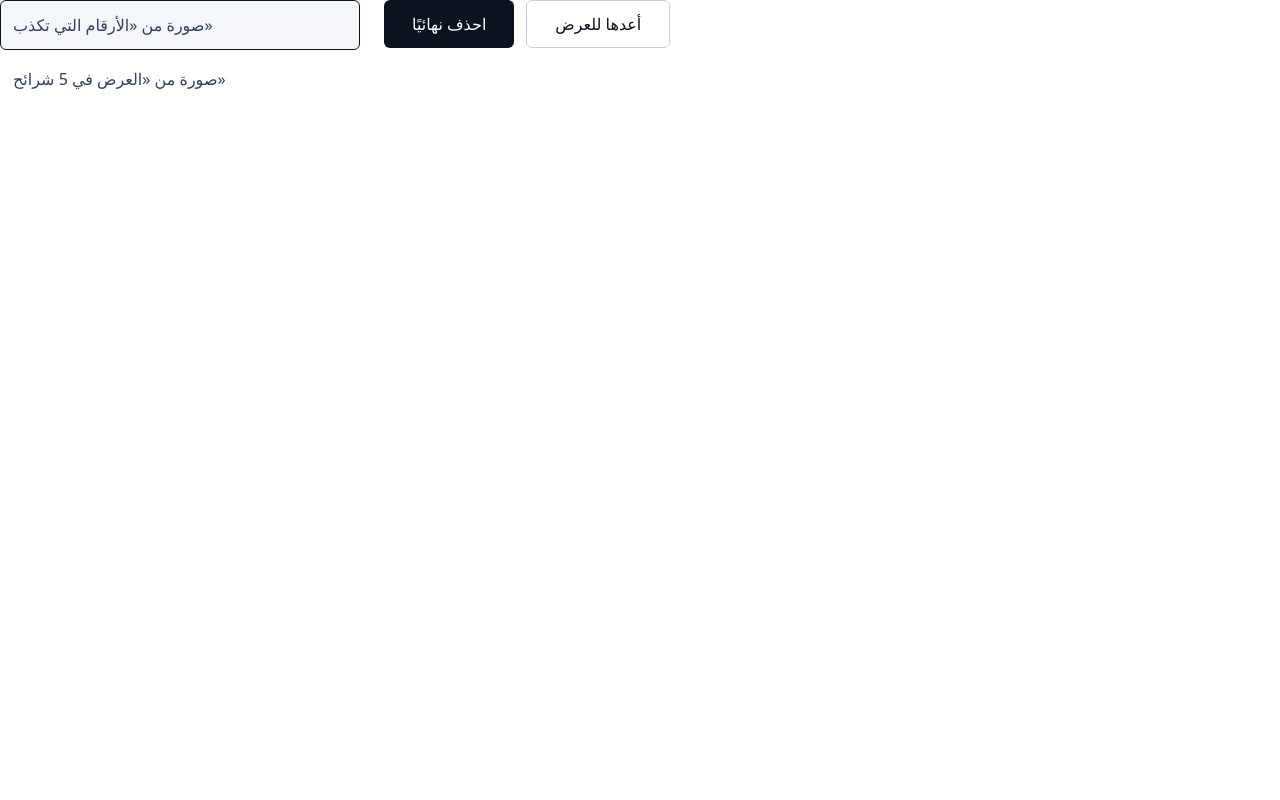
Test: SCR-051 · Decide › ★ «احذف نهائيًا» confirms in a dialog naming the session, and the reason travels
Click the button "احذف نهائيًا" at (449, 24), box [384, 0, 514, 48]
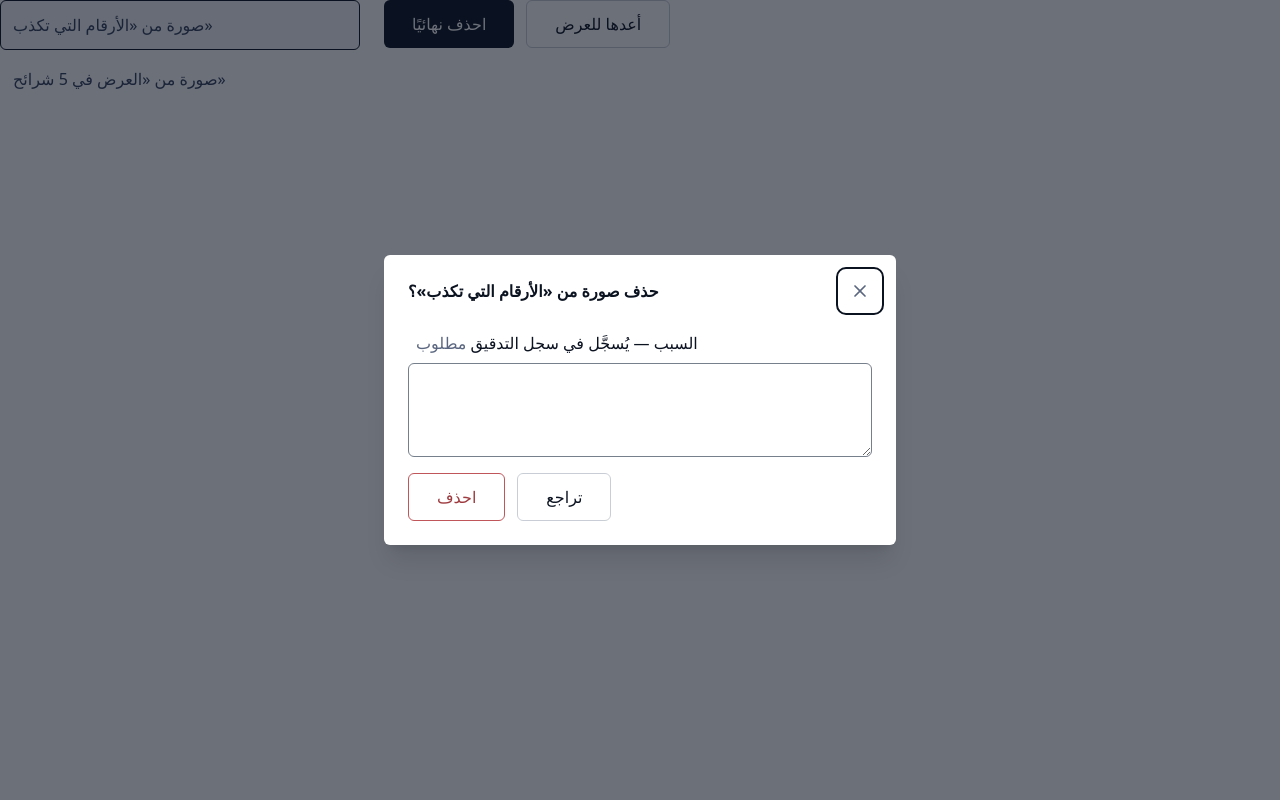
Type "تخالف السياسة" into the text box labelled "السبب — يُسجَّل في سجل التدقيق" at (640, 410), box [408, 363, 872, 457]
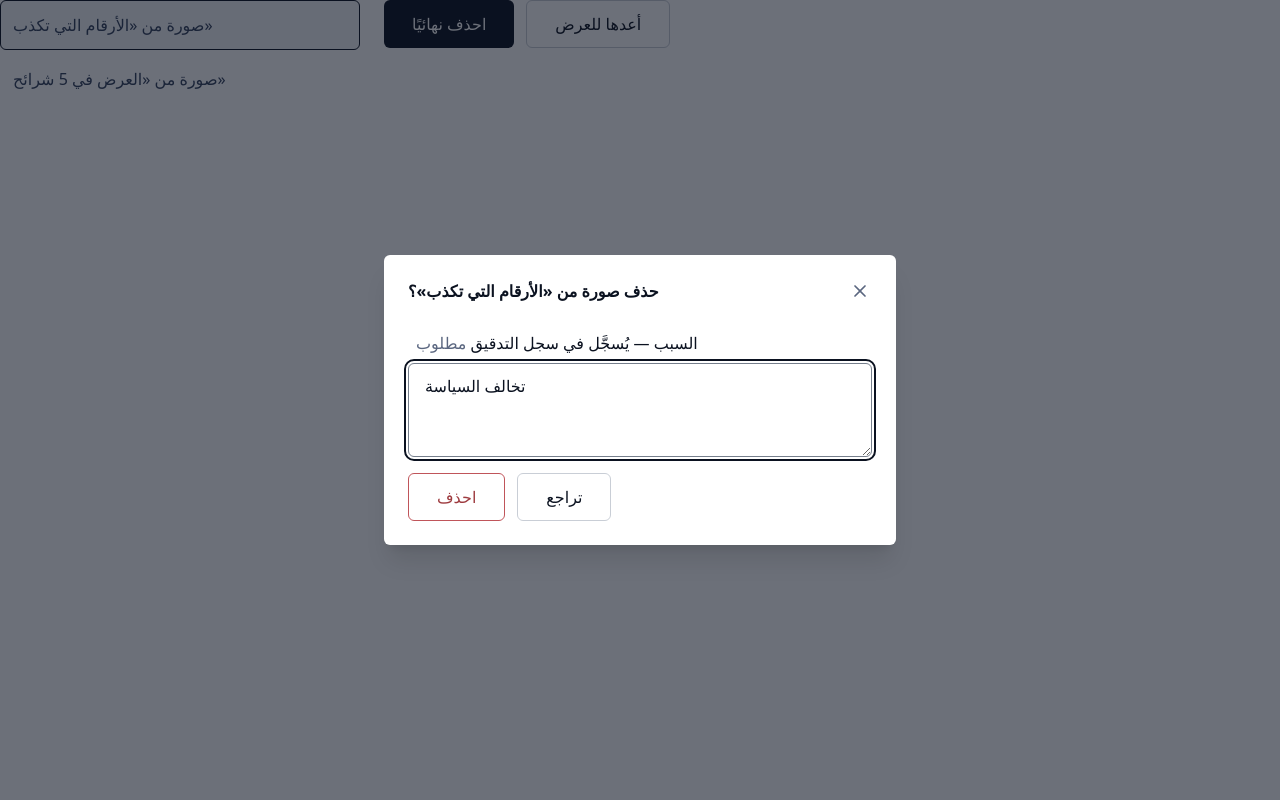
Click the button "احذف" at (457, 497), box [408, 473, 505, 521]
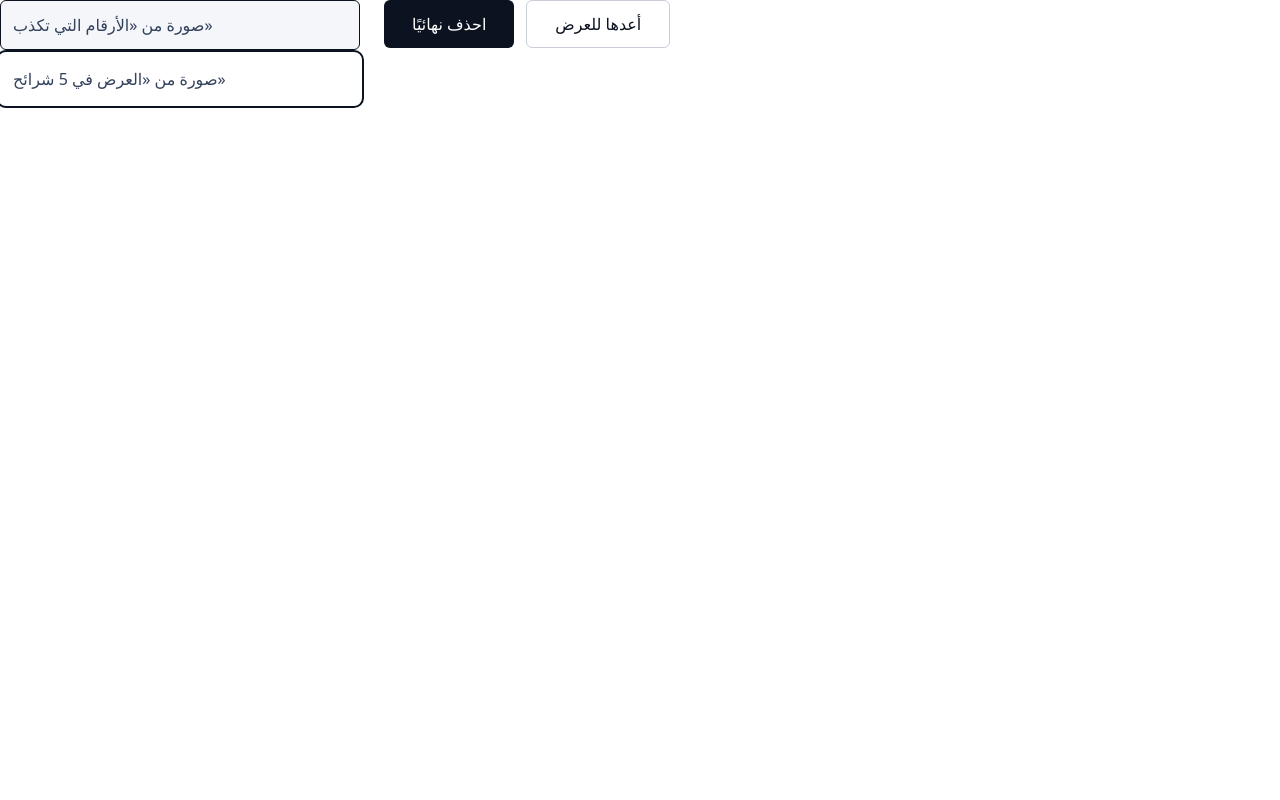
Now the dialog is gone
